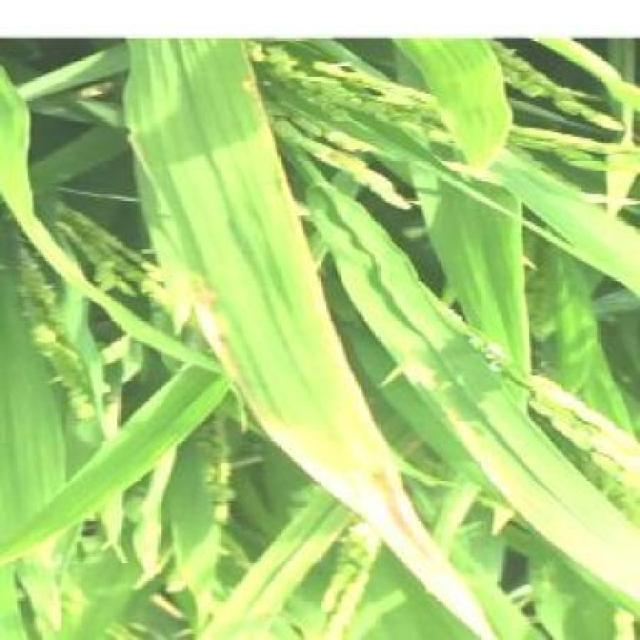Brown_Spot: (192, 166, 331, 485)
